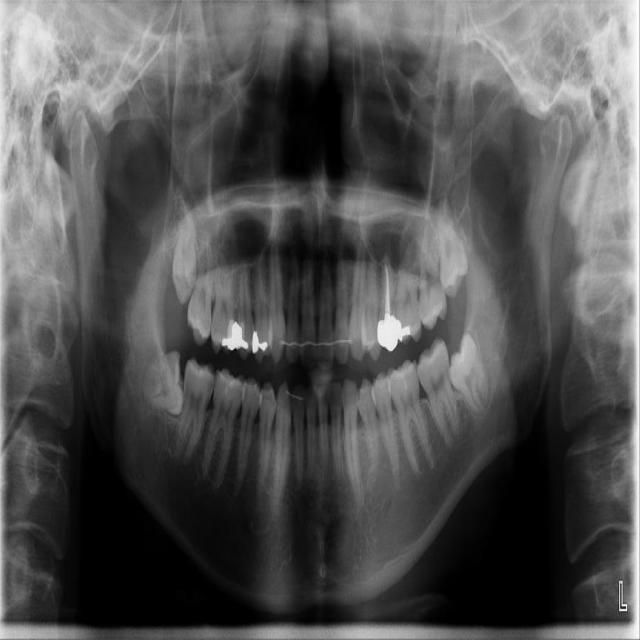Crown: (377, 315, 398, 352)
Filling: (222, 321, 237, 351), (252, 330, 268, 354), (237, 323, 249, 350), (396, 319, 411, 340)
Root Canal Treatment: (384, 264, 392, 314)
impacted tooth: (434, 196, 471, 291), (447, 334, 491, 413), (131, 353, 183, 410), (173, 193, 194, 300)
